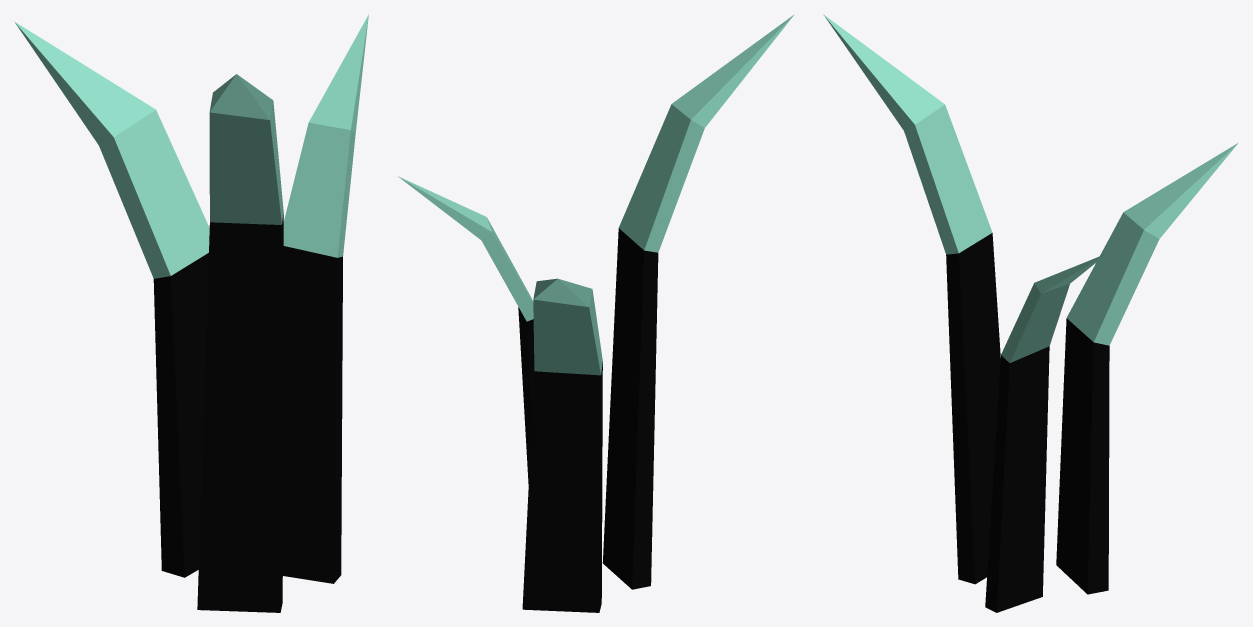
The model's file is Grass_4.fbx.
The picture shows the model from 3 angles, left to right: view 1: azimuth 30°, elevation 25°; view 2: azimuth 150°, elevation 25°; view 3: azimuth 270°, elevation 25°; orthographic projection. The views are drawn at different scales.
Visible parts, largest first — view 1: Grass_4; view 2: Grass_4; view 3: Grass_4.
Boxes of the visible parts, x1=… form: Grass_4: x1=14, y1=14, x2=368, y2=612; Grass_4: x1=398, y1=14, x2=794, y2=612; Grass_4: x1=823, y1=14, x2=1237, y2=612.
Size of the model in its own units: 0.0635 by 0.1247 by 0.0913.
